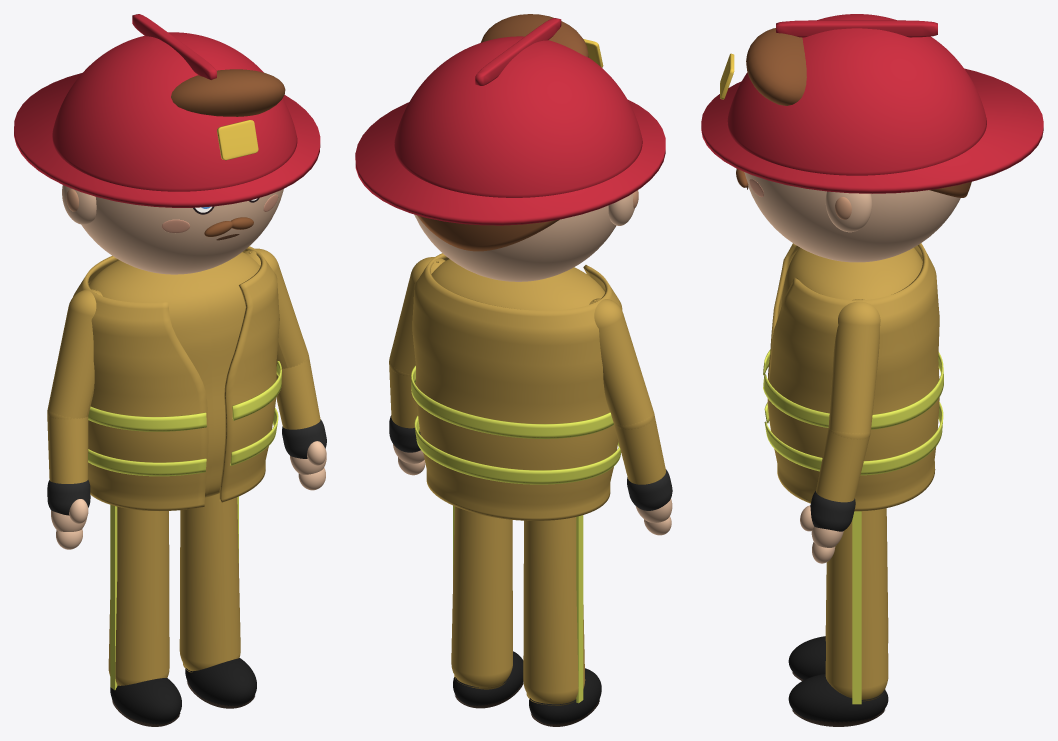
Rendered from brandweerman.glb.
The picture shows the model from 3 angles, left to right: view 1: azimuth 30°, elevation 25°; view 2: azimuth 150°, elevation 25°; view 3: azimuth 270°, elevation 25°; orthographic projection. The views are drawn at different scales.
Visible parts, largest first — view 1: brandweerman_hesje, brandweerman_helm, brandweerman_romp, brandweerman_been_L, brandweerman_helm_rand, brandweerman_hoofd, brandweerman_been_R, brandweerman_bovenarm_R, brandweerman_haar_kuif, brandweerman_hesje_band1, brandweerman_onderarm_R, brandweerman_schoen_R (+10 smaller); view 2: brandweerman_hesje, brandweerman_helm, brandweerman_helm_rand, brandweerman_been_L, brandweerman_been_R, brandweerman_hoofd, brandweerman_romp, brandweerman_bovenarm_R, brandweerman_hesje_band1, brandweerman_hesje_band0, brandweerman_haar, brandweerman_onderarm_R (+10 smaller); view 3: brandweerman_helm, brandweerman_hesje, brandweerman_helm_rand, brandweerman_hoofd, brandweerman_been_L, brandweerman_bovenarm_L, brandweerman_romp, brandweerman_haar_kuif, brandweerman_schoen_L, brandweerman_onderarm_L, brandweerman_hesje_band1, brandweerman_hesje_band0 (+5 smaller).
Boxes of the visible parts, <box> form: brandweerman_hesje: <box>73,246,279,510</box>; brandweerman_helm: <box>52,32,297,191</box>; brandweerman_romp: <box>89,252,260,497</box>; brandweerman_been_L: <box>179,493,240,671</box>; brandweerman_helm_rand: <box>14,73,320,207</box>; brandweerman_hoofd: <box>81,189,283,274</box>; brandweerman_been_R: <box>108,506,169,685</box>; brandweerman_bovenarm_R: <box>47,289,102,419</box>; brandweerman_haar_kuif: <box>171,69,285,116</box>; brandweerman_hesje_band1: <box>88,361,281,431</box>; brandweerman_onderarm_R: <box>47,412,88,483</box>; brandweerman_schoen_R: <box>110,678,181,724</box>; brandweerman_hesje: <box>412,253,622,520</box>; brandweerman_helm: <box>394,36,642,197</box>; brandweerman_helm_rand: <box>355,99,665,225</box>; brandweerman_been_L: <box>451,506,512,687</box>; brandweerman_been_R: <box>523,517,585,704</box>; brandweerman_hoofd: <box>414,205,616,281</box>; brandweerman_romp: <box>431,259,605,310</box>; brandweerman_bovenarm_R: <box>589,298,653,429</box>; brandweerman_hesje_band1: <box>411,365,613,438</box>; brandweerman_hesje_band0: <box>414,415,621,484</box>; brandweerman_haar: <box>417,215,559,251</box>; brandweerman_onderarm_R: <box>614,414,665,484</box>; brandweerman_helm: <box>727,14,986,175</box>; brandweerman_hesje: <box>767,243,939,511</box>; brandweerman_helm_rand: <box>701,68,1043,193</box>; brandweerman_hoofd: <box>744,172,960,262</box>; brandweerman_been_L: <box>825,508,888,699</box>; brandweerman_bovenarm_L: <box>828,299,880,439</box>; brandweerman_romp: <box>781,247,922,307</box>; brandweerman_haar_kuif: <box>746,28,806,105</box>; brandweerman_schoen_L: <box>788,674,888,722</box>; brandweerman_onderarm_L: <box>816,428,869,502</box>; brandweerman_hesje_band1: <box>763,349,943,429</box>; brandweerman_hesje_band0: <box>764,401,943,475</box>.
Size of the model in its own units: 0.8165 by 1.89 by 0.8604.
